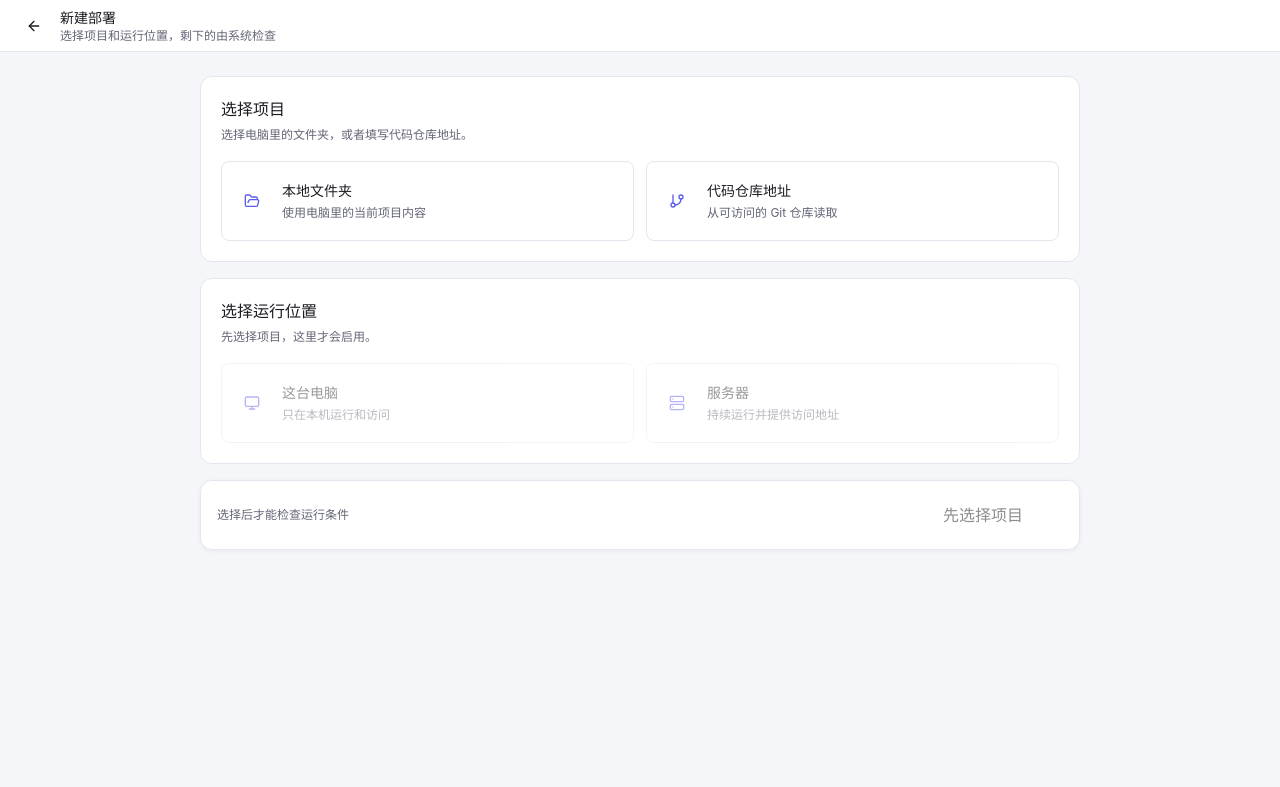
DeploymentEditorController › 本机运行失败时说明已保留内容，并提供明确的重试入口
Click the button "本地文件夹 使用电脑里的当前项目内容" at point(252, 201), box [221,161,634,241]
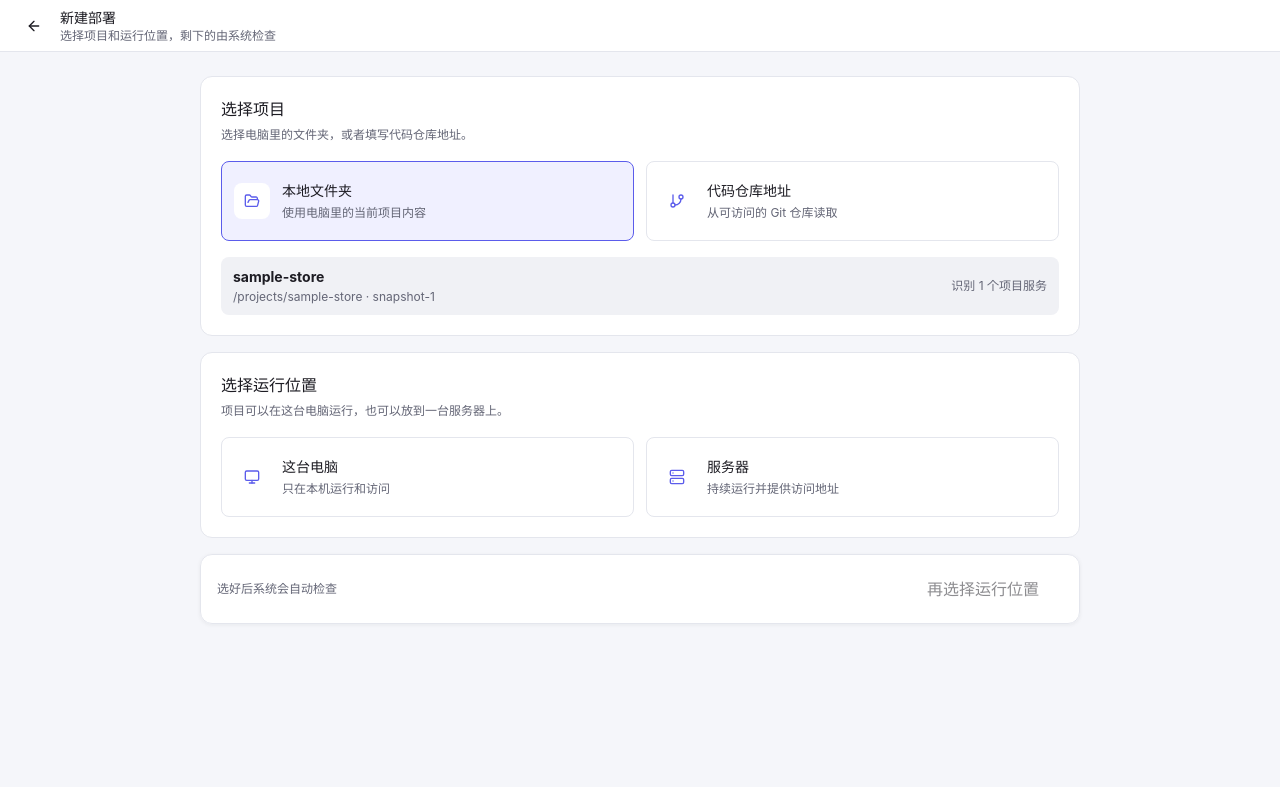
Expected: the text "/projects/sample-store" is shown, [233,289,435,304]
Click the button "这台电脑 只在本机运行和访问" at point(252, 477), box [221,437,634,517]
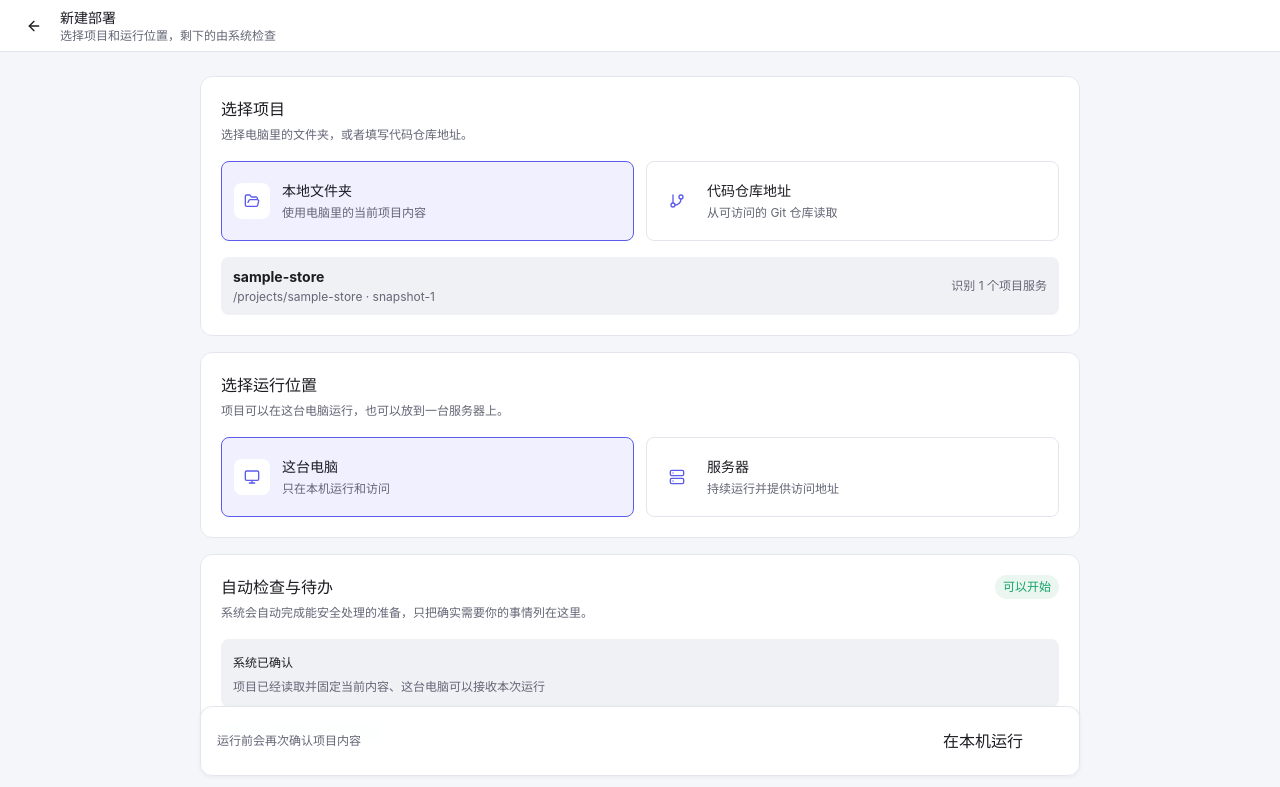
Click the button "在本机运行" at point(983, 741), box [903,723,1063,759]
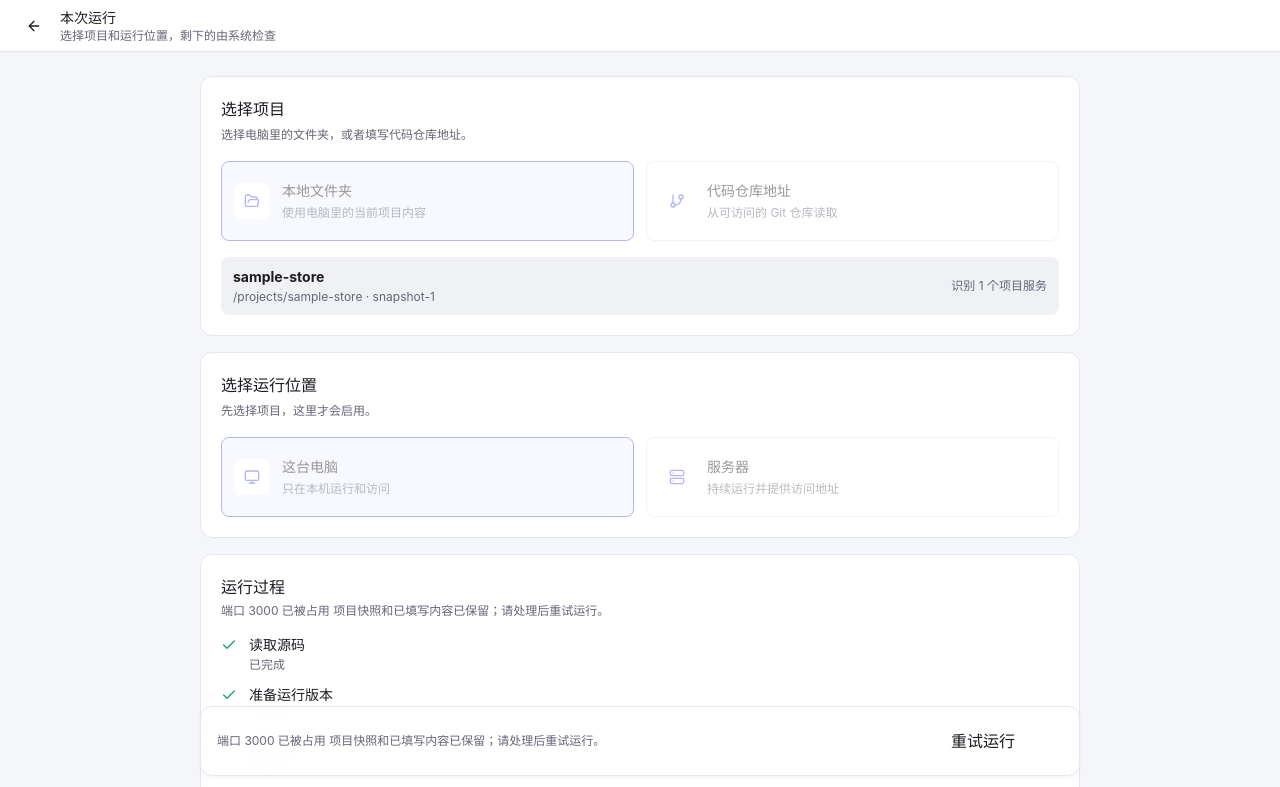
Expected: the button "重试运行" is enabled, [903,723,1063,759]
Expected: the heading "运行过程" is shown, [221,577,285,597]
Expected: the text "端口 3000 已被占用 项目快照和已填写内容已保留；请处理后重试运行。" below "运行过程" is shown, [221,603,609,618]
